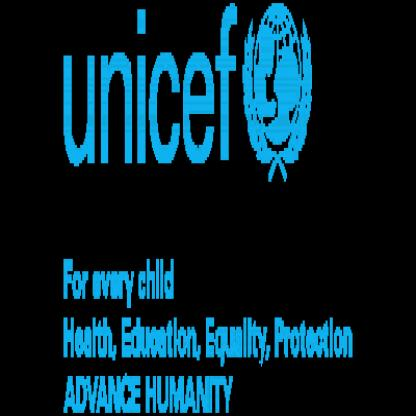Unicef: (61, 2, 239, 168), (242, 2, 313, 181)
